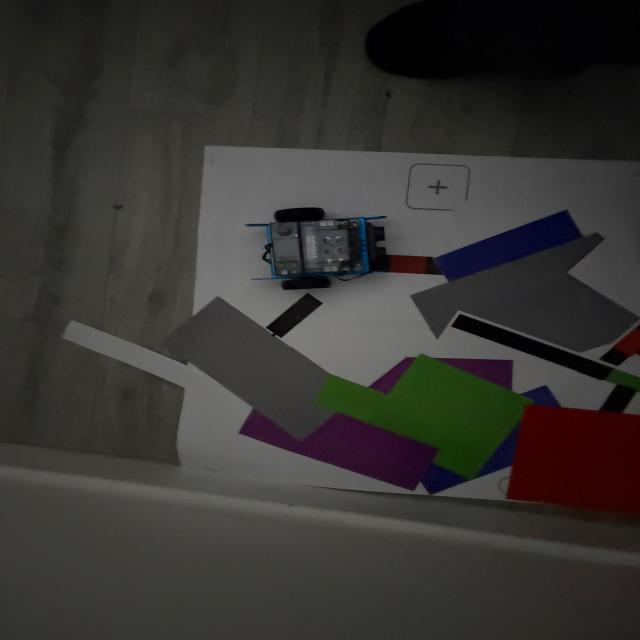mbot-detection: (239, 200, 396, 294)
